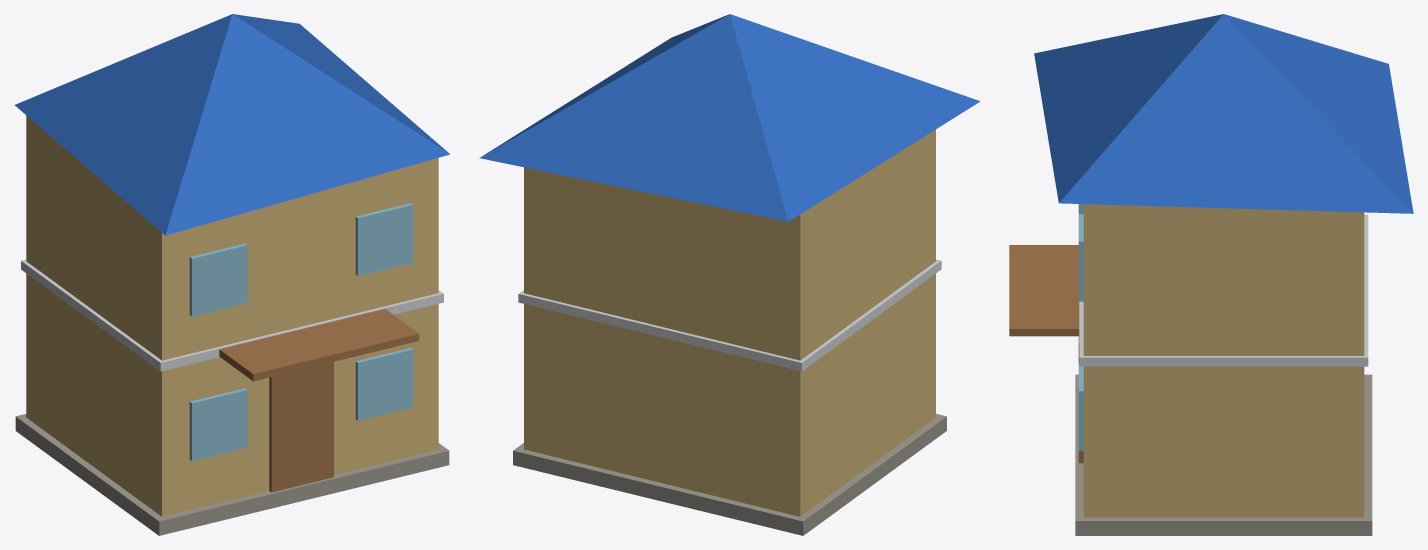
The model's file is house_b.glb.
3 renders of one model, left to right at view 1: azimuth 30°, elevation 25°; view 2: azimuth 150°, elevation 25°; view 3: azimuth 270°, elevation 25°, orthographic. The views are drawn at different scales.
Parts seen in each view (by area): view 1: house_b; view 2: house_b; view 3: house_b.
Boxes of the visible parts, x1,y1,x2,y2 form: house_b: [15, 14, 450, 535]; house_b: [479, 14, 980, 535]; house_b: [1009, 14, 1413, 535].
Size of the model in its own units: 4.6 by 6 by 4.9.
